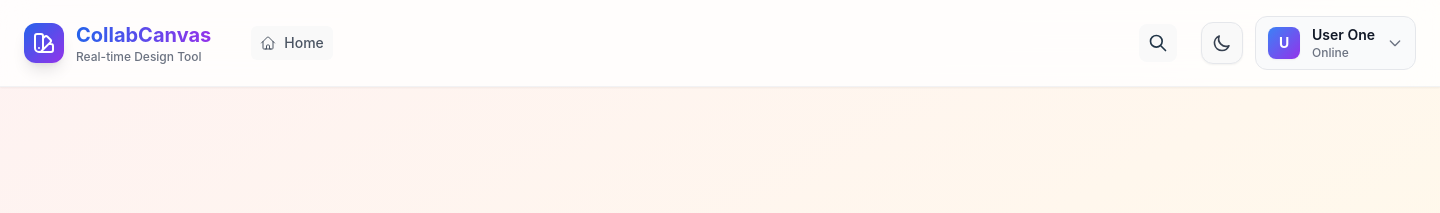
it: Navbar › Search Functionality › should open search dropdown when search button is clicked
Click the button titled "Search" at (1158, 43), box left=1139, top=24, right=1177, bottom=62
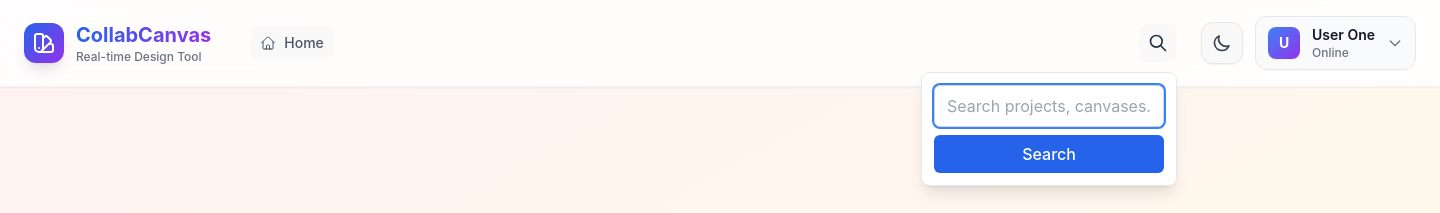
Expected: the field with placeholder "Search projects, canvases..." is shown, left=934, top=85, right=1164, bottom=127
